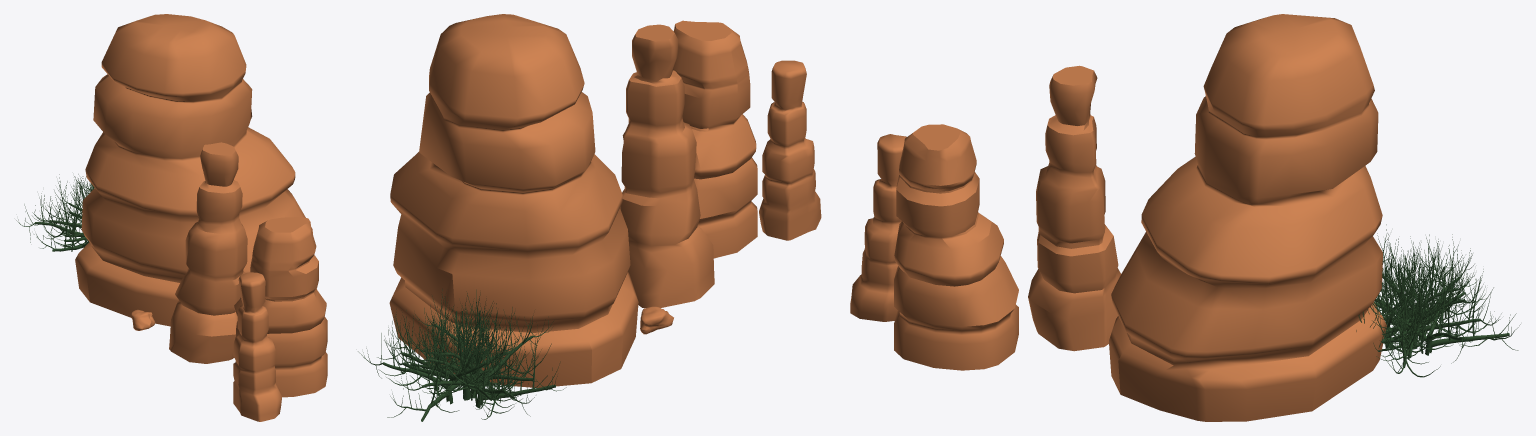
The model's file is EnvEast_01.fbx.
3 views of the same model, side by side, from view 1: azimuth 30°, elevation 25°; view 2: azimuth 150°, elevation 25°; view 3: azimuth 270°, elevation 25° (orthographic). The views are drawn at different scales.
Visible parts, largest first — view 1: pCube25; view 2: pCube25; view 3: pCube25.
Part boxes in pixels (x1,y1,x2,y2): pCube25: [16, 14, 327, 421]; pCube25: [358, 14, 821, 421]; pCube25: [850, 14, 1520, 421].
Size of the model in its own units: 339 by 429 by 785.
